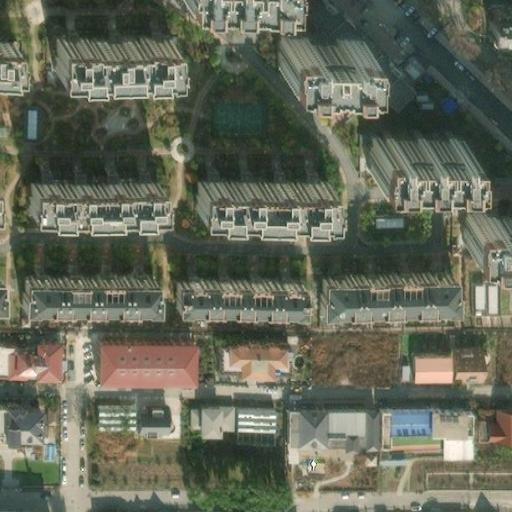building: (187, 167, 322, 208), (312, 266, 446, 304), (48, 37, 170, 78), (16, 169, 146, 207), (15, 268, 150, 302), (89, 333, 186, 379), (377, 409, 467, 457), (343, 36, 406, 103), (166, 268, 294, 300), (271, 34, 353, 73), (288, 409, 377, 444), (362, 134, 459, 166), (393, 345, 475, 377), (214, 340, 280, 377), (4, 339, 52, 378), (224, 401, 272, 438), (299, 3, 352, 34), (472, 278, 511, 317), (467, 405, 511, 439), (91, 394, 129, 425), (183, 403, 216, 437), (129, 394, 162, 425), (487, 3, 512, 37), (180, 437, 206, 459), (0, 285, 12, 320)
